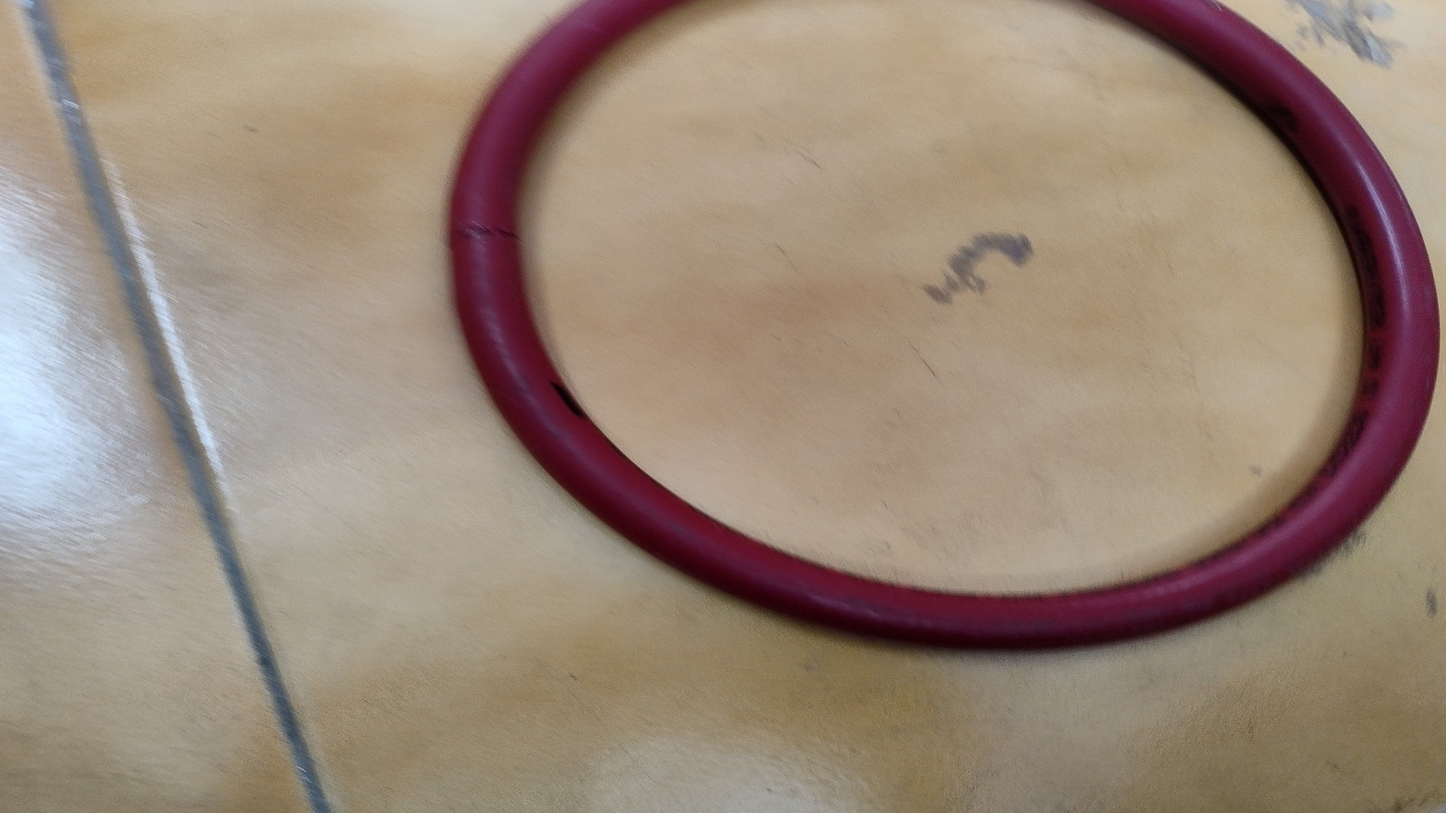Red ring: (442, 4, 1426, 653)
